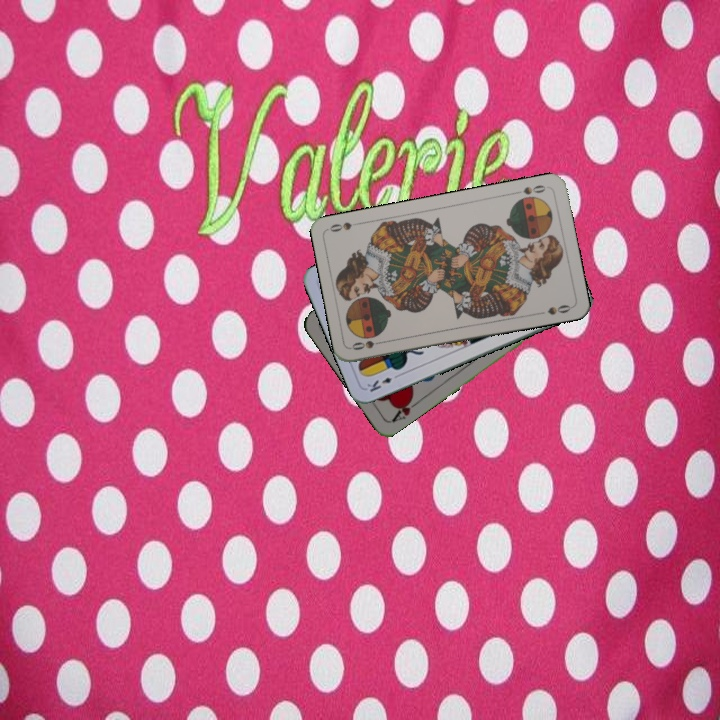EK: (363, 370, 403, 395)
HA: (387, 393, 423, 425)
SO: (348, 336, 388, 353), (510, 181, 548, 197)
